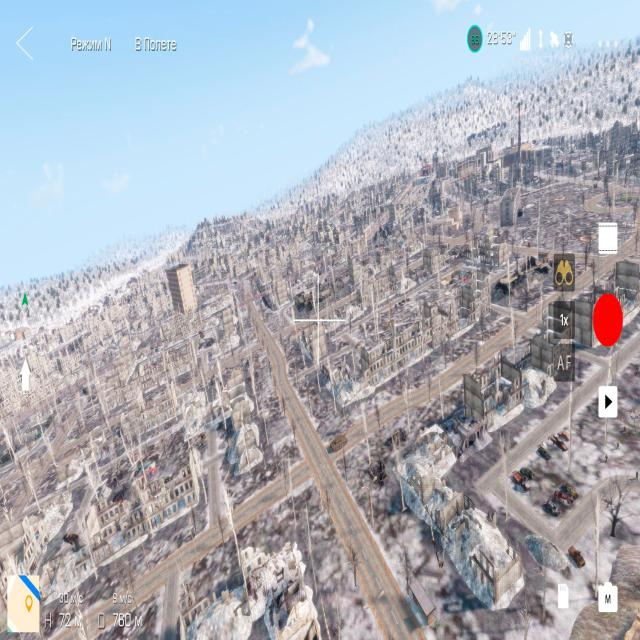fortification: (174, 539, 338, 640), (448, 502, 525, 614), (25, 535, 119, 609), (394, 407, 477, 490), (396, 460, 470, 548), (328, 327, 407, 401), (79, 486, 155, 561), (460, 352, 524, 430), (139, 452, 205, 525), (374, 316, 438, 373), (501, 342, 557, 406), (157, 252, 204, 326), (444, 260, 494, 325), (219, 423, 271, 483), (421, 292, 484, 341)
vehicle: (542, 490, 586, 522), (508, 455, 537, 499), (561, 534, 588, 574), (324, 428, 354, 458), (548, 426, 571, 456), (552, 474, 581, 497), (533, 434, 553, 464)
